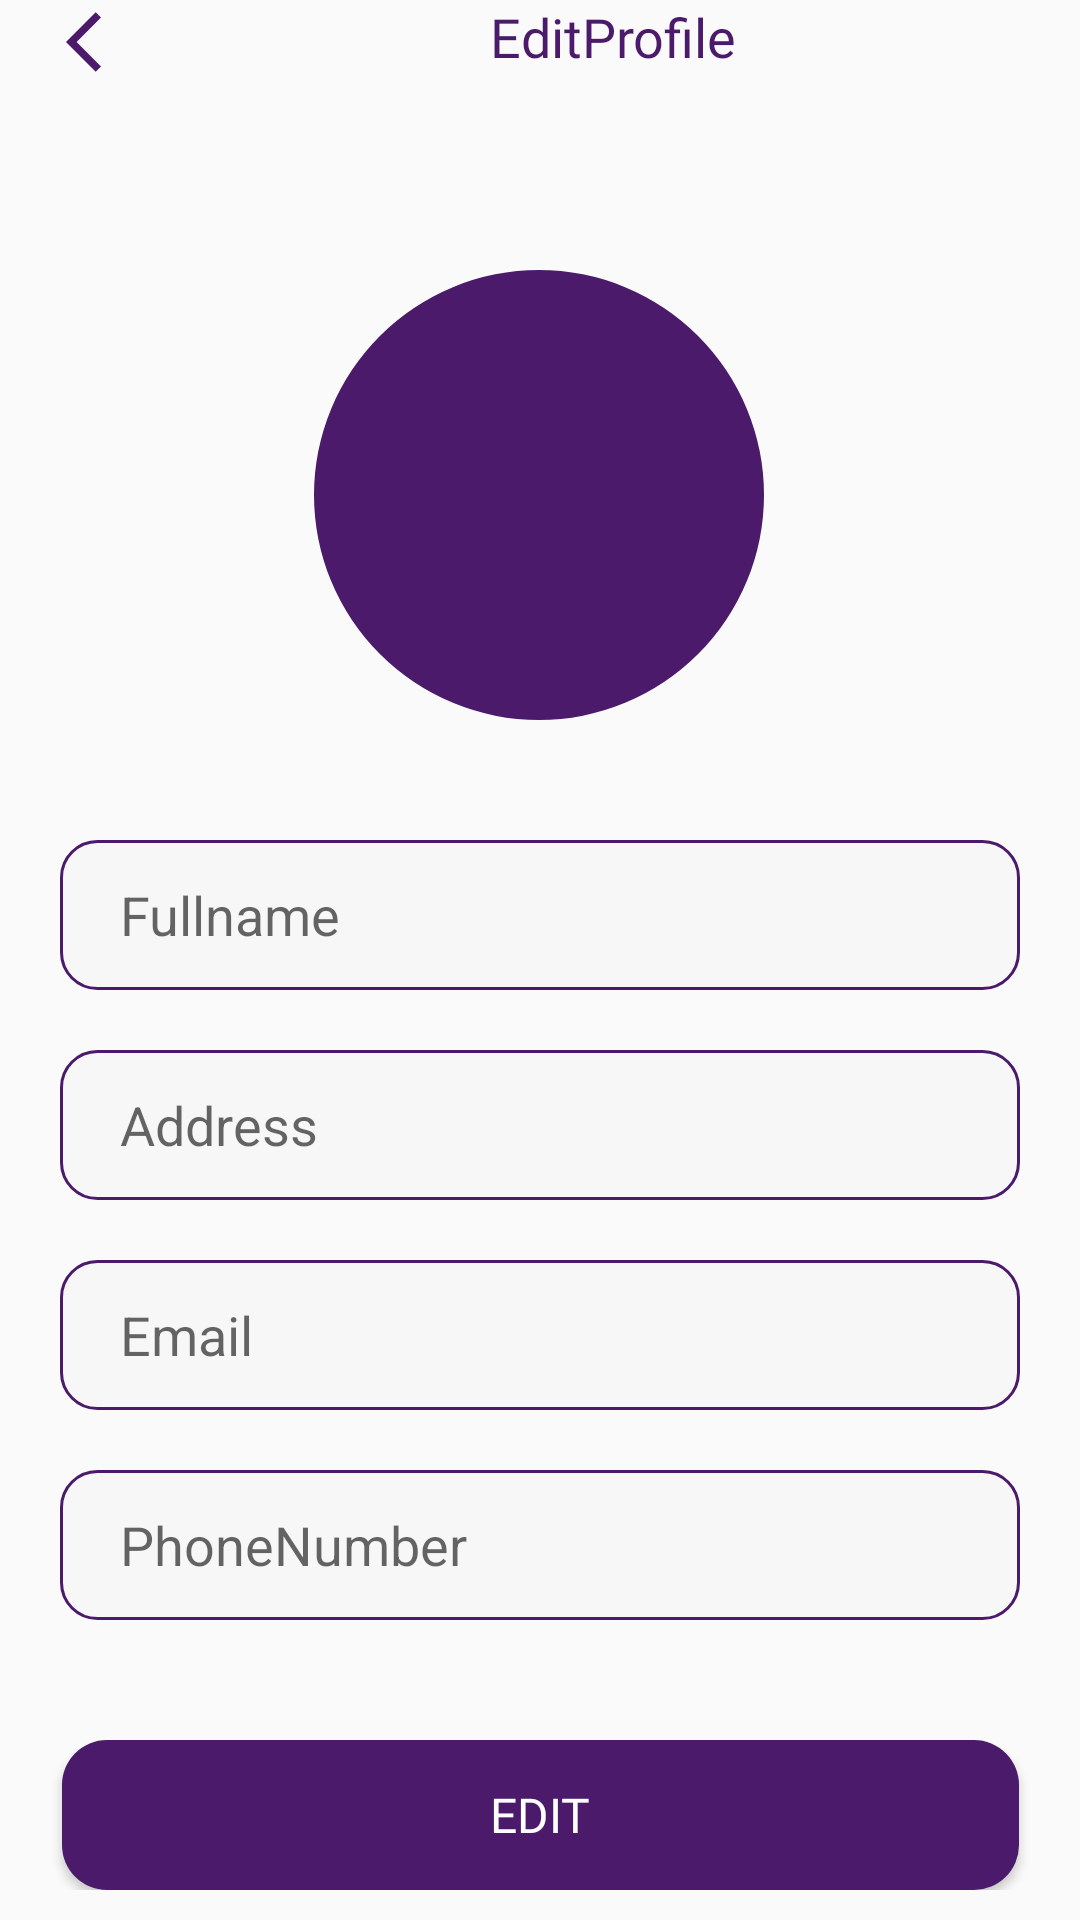

Screen size 1080×1920. Icon name, then its center in pixels as [x,y]:
back arrow: [83,42]
